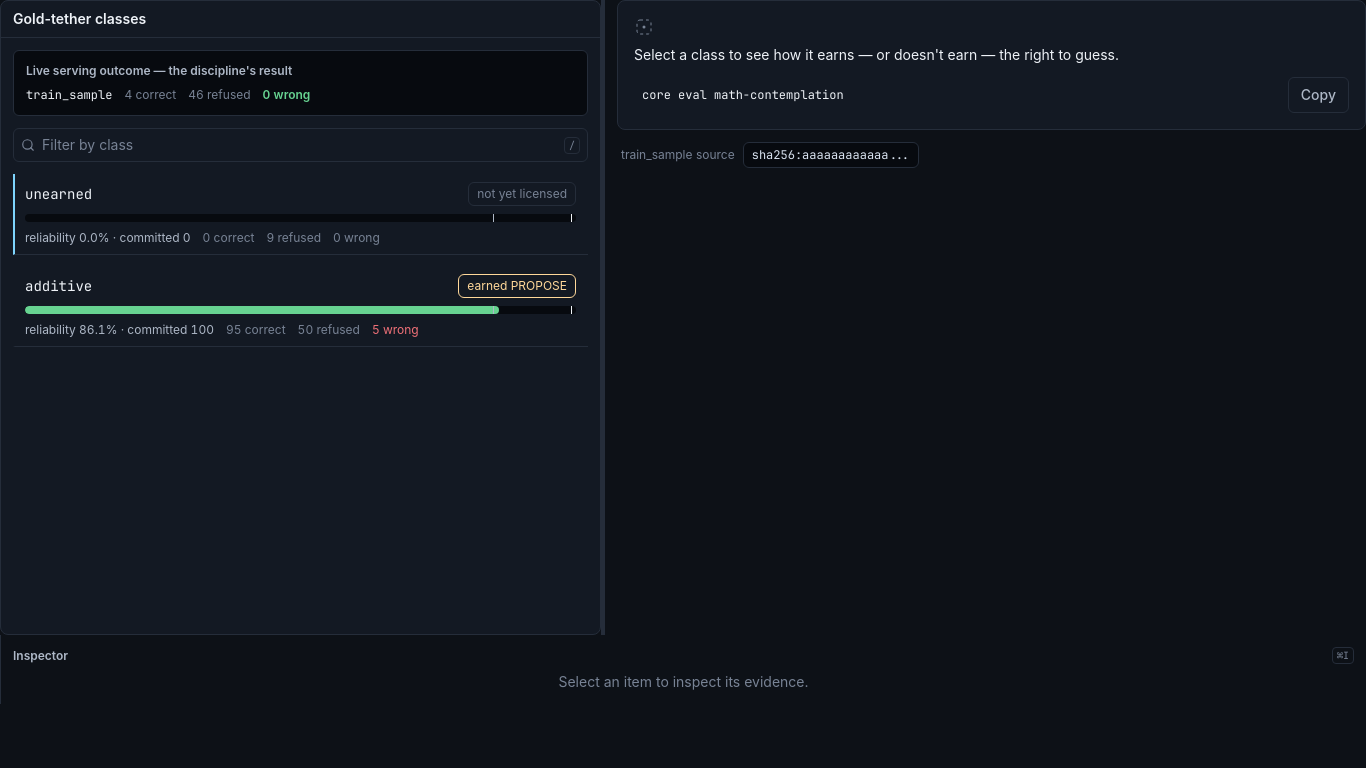
Test: CalibrationRoute › publishes the selected class as calibration evidence for the inspector
The image size is (1366, 768).
Click the text "additive".
click(59, 286)  # box [25, 276, 92, 296]
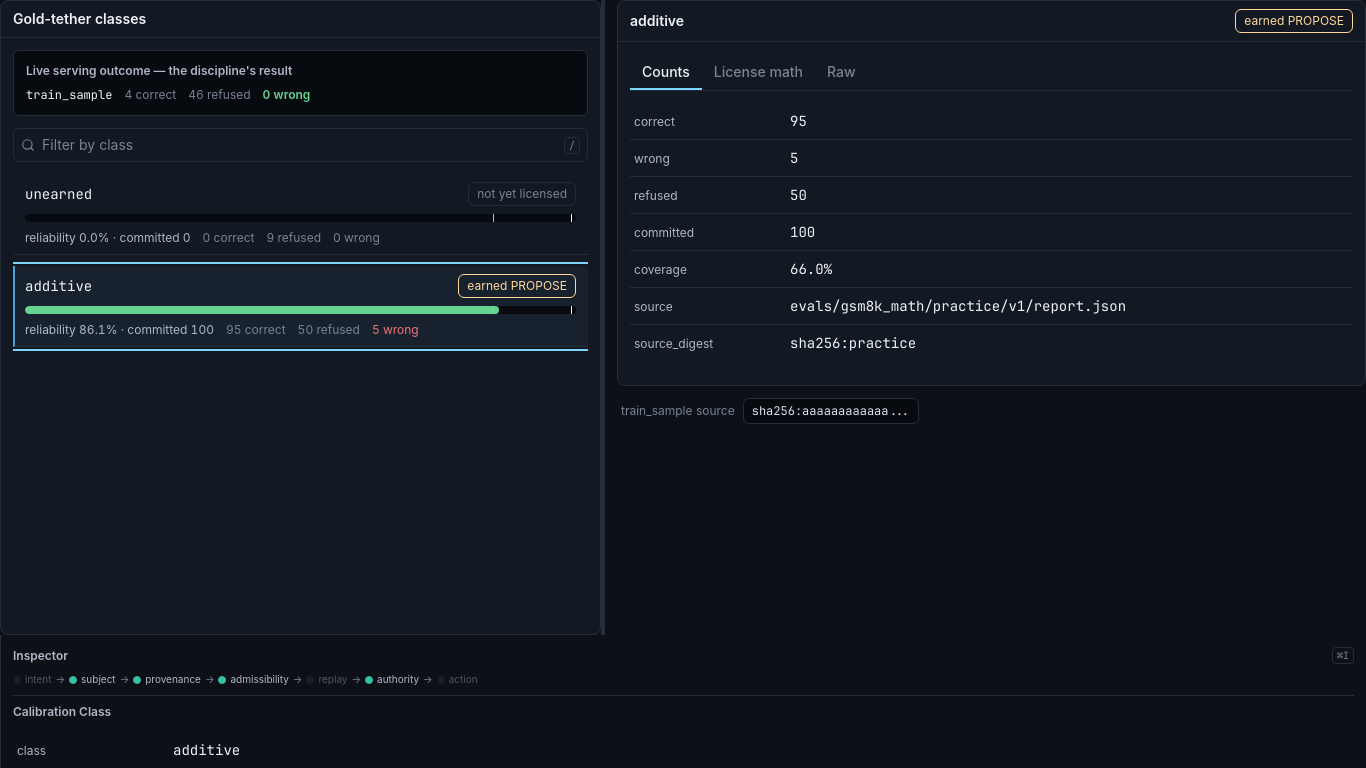
Result: the heading "Calibration Class" is shown at [13, 704, 111, 719]
Result: the text "sha256:practice" is shown at [790, 334, 916, 352]
